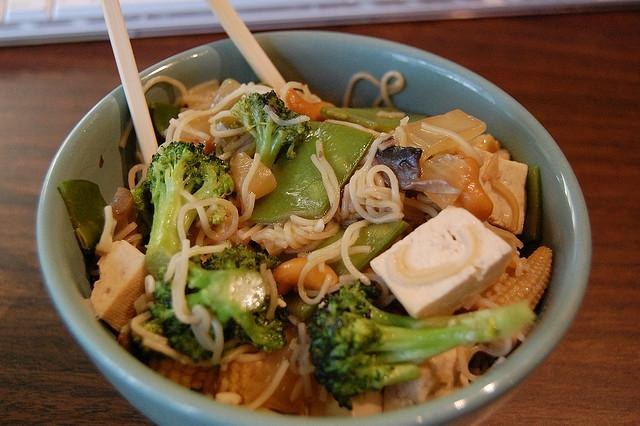broccoli: (309, 280, 536, 408), (143, 141, 235, 280), (187, 246, 286, 350), (231, 90, 312, 170)
corn: (488, 246, 553, 311), (251, 366, 265, 382), (228, 371, 241, 383)
pea: (248, 121, 374, 224), (327, 220, 410, 277), (320, 106, 430, 129), (520, 166, 544, 244)
